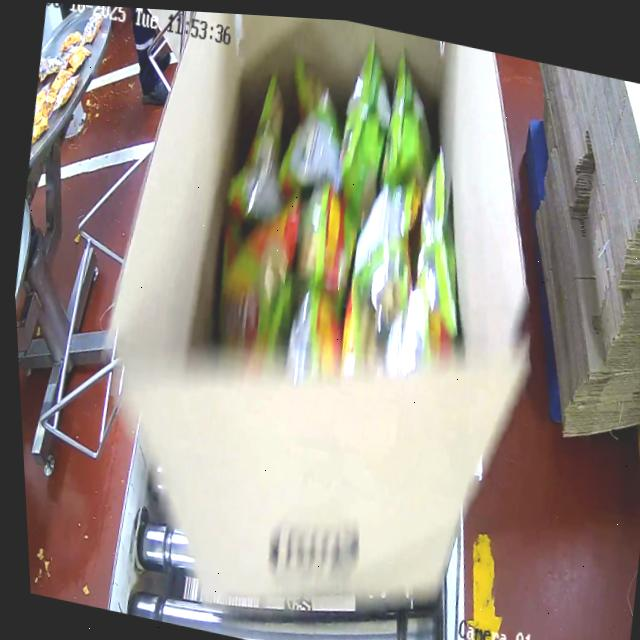YOGURT_HERB: (181, 26, 492, 402)
